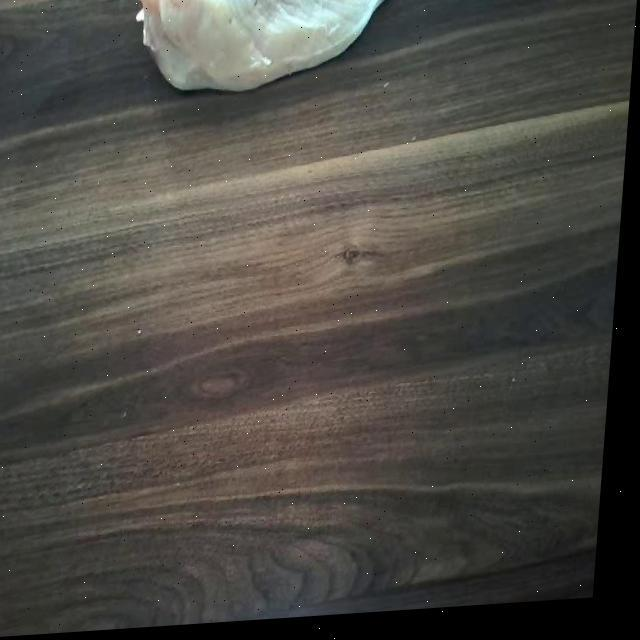breast: (126, 0, 401, 108)
